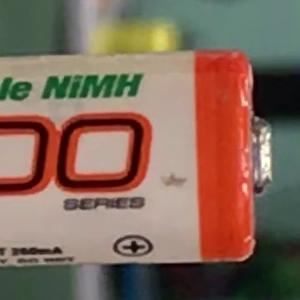keyword: (31, 64, 153, 109)
